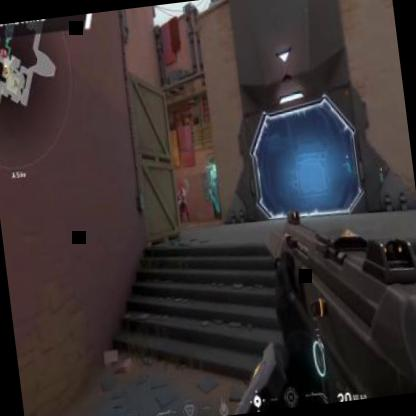enemy: (174, 182, 192, 223)
enemy_head: (178, 183, 182, 189)
